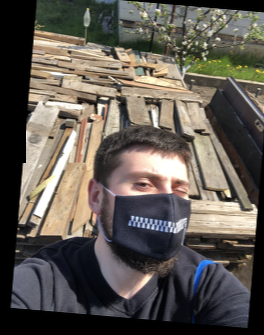with_mask: (109, 161, 190, 271)
